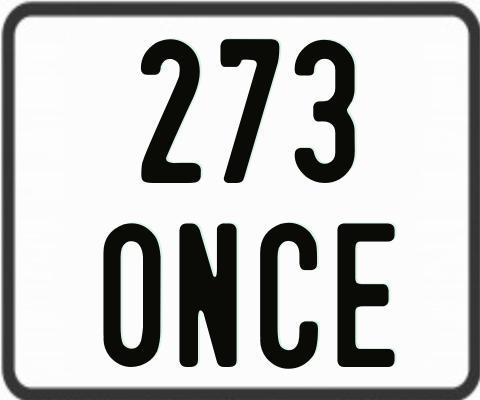0: (100, 221, 162, 370)
2: (141, 37, 201, 183)
3: (294, 39, 356, 187)
7: (220, 39, 281, 186)
C: (258, 220, 319, 372)
E: (335, 221, 399, 371)
N: (178, 222, 237, 366)
